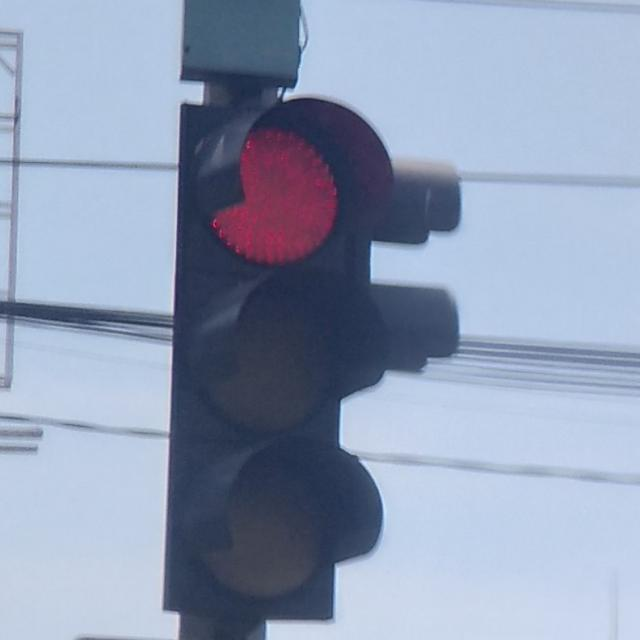red light: (165, 91, 393, 626)
